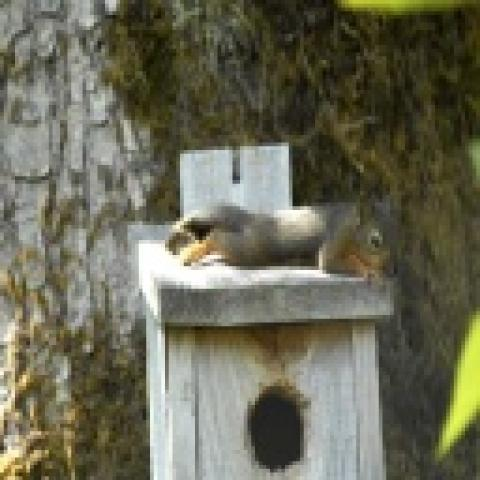small_animal: (161, 192, 401, 278)
